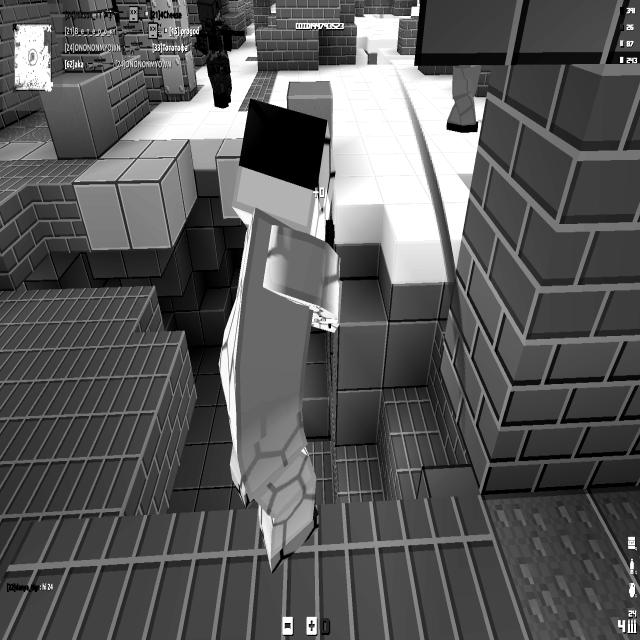Head: (232, 98, 336, 242), (198, 0, 224, 36)
Player: (218, 98, 344, 560), (193, 0, 235, 109), (447, 60, 482, 139)
